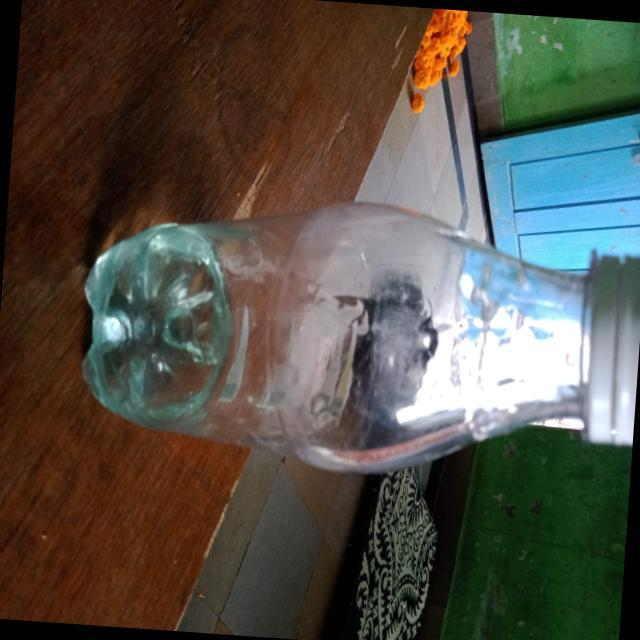good: (69, 176, 640, 486)
